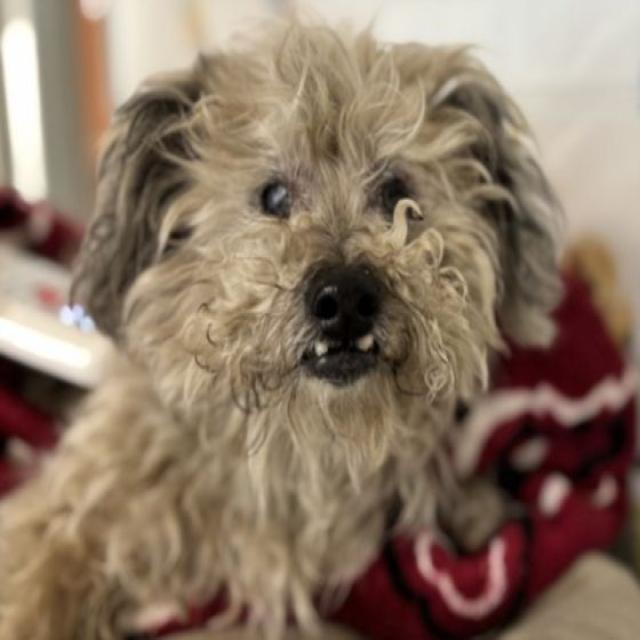Poodle_dog: (61, 14, 594, 498)
